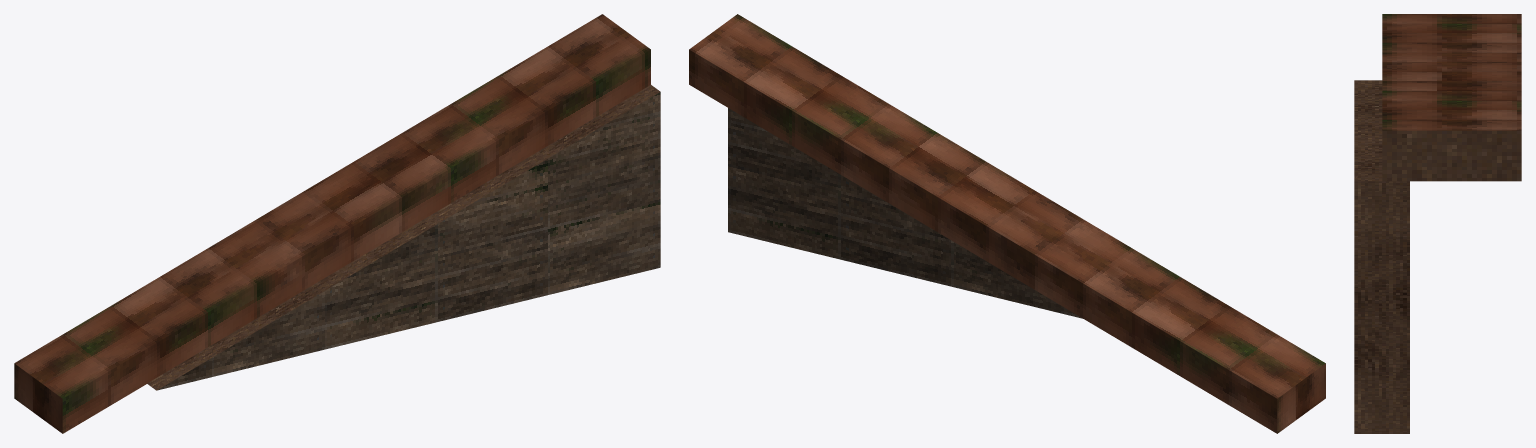
Rendered from roof_11_L.glb.
3 renders of one model, left to right at view 1: azimuth 30°, elevation 25°; view 2: azimuth 150°, elevation 25°; view 3: azimuth 270°, elevation 25°, orthographic. The views are drawn at different scales.
Visible parts, largest first — view 1: roof_11_L2; view 2: roof_11_L2; view 3: roof_11_L2.
Boxes of the visible parts, x1,y1,x2,y2 form: roof_11_L2: [14, 14, 660, 433]; roof_11_L2: [689, 14, 1325, 433]; roof_11_L2: [1354, 14, 1521, 433].
Bounding box in the file's own units: 3.5 × 1.37 × 0.6.
1 material, 1 textured.
